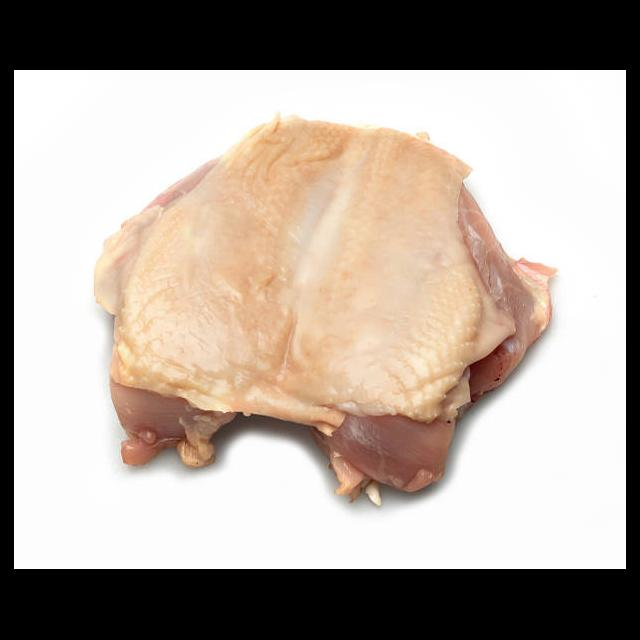chicken: (91, 107, 557, 510)
